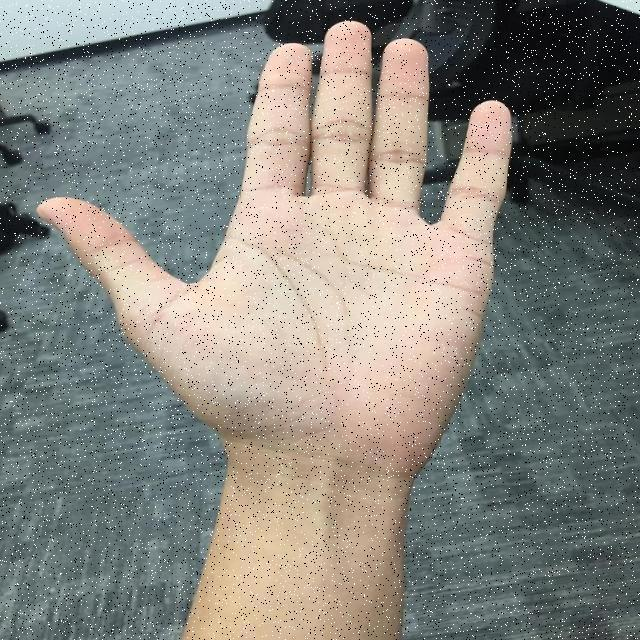hand: (33, 18, 515, 498)
